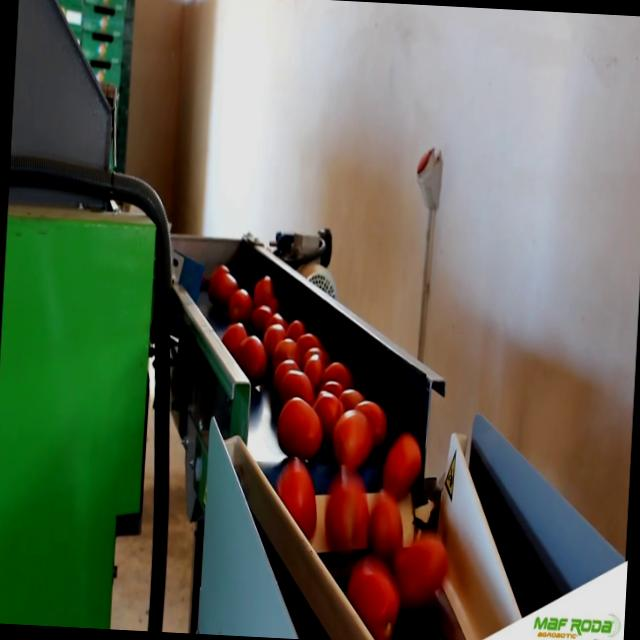Tomato: (322, 480, 377, 566), (344, 561, 404, 636), (391, 535, 450, 606), (270, 459, 317, 548), (326, 403, 379, 472), (274, 398, 326, 460), (382, 428, 425, 496), (370, 496, 408, 550), (276, 364, 314, 404), (236, 338, 268, 384), (270, 334, 306, 370), (218, 322, 248, 356), (203, 257, 226, 299), (214, 270, 236, 310), (260, 317, 284, 353), (254, 266, 276, 302), (294, 332, 326, 354), (338, 390, 366, 414), (230, 290, 252, 320), (252, 304, 271, 329), (286, 320, 304, 344)
